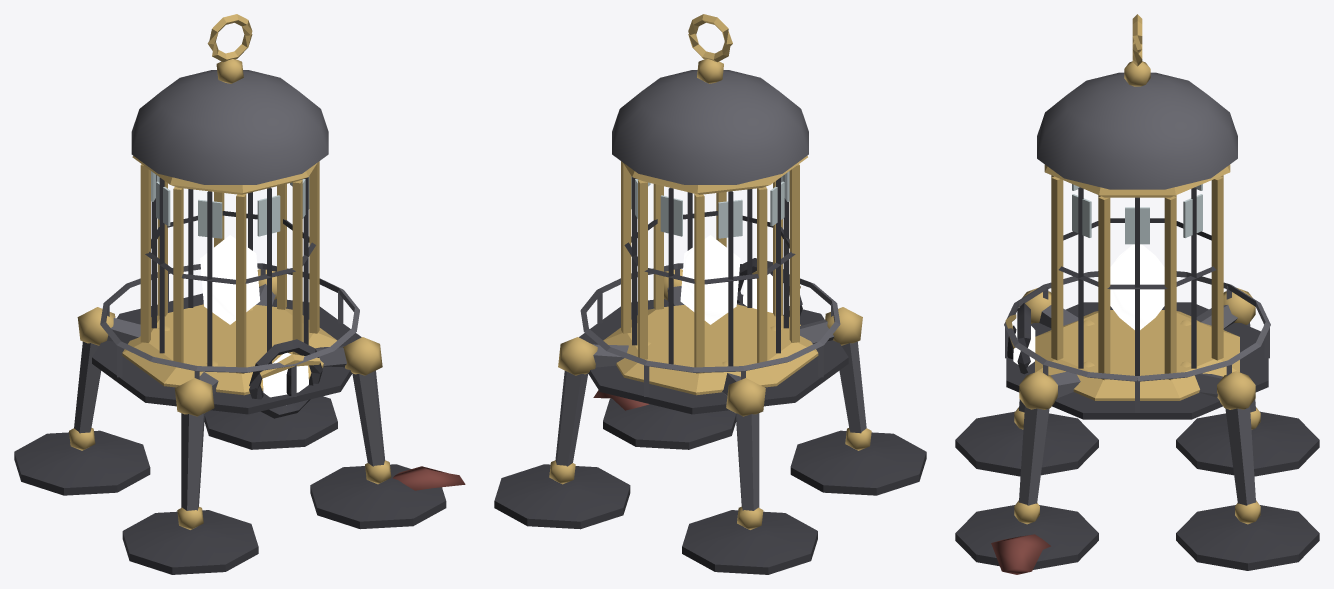
Rendered from lantern-ward-glass.glb.
3 renders of one model, left to right at view 1: azimuth 30°, elevation 25°; view 2: azimuth 150°, elevation 25°; view 3: azimuth 270°, elevation 25°, orthographic.
Parts seen in each view (by area): view 1: lantern_ward_glass; view 2: lantern_ward_glass; view 3: lantern_ward_glass.
Boxes of the visible parts, <box> form: lantern_ward_glass: <box>14,14,465,574</box>; lantern_ward_glass: <box>494,14,926,574</box>; lantern_ward_glass: <box>955,14,1319,574</box>.
Bounding box in the file's own units: 0.5745 × 0.7905 × 0.5473.
